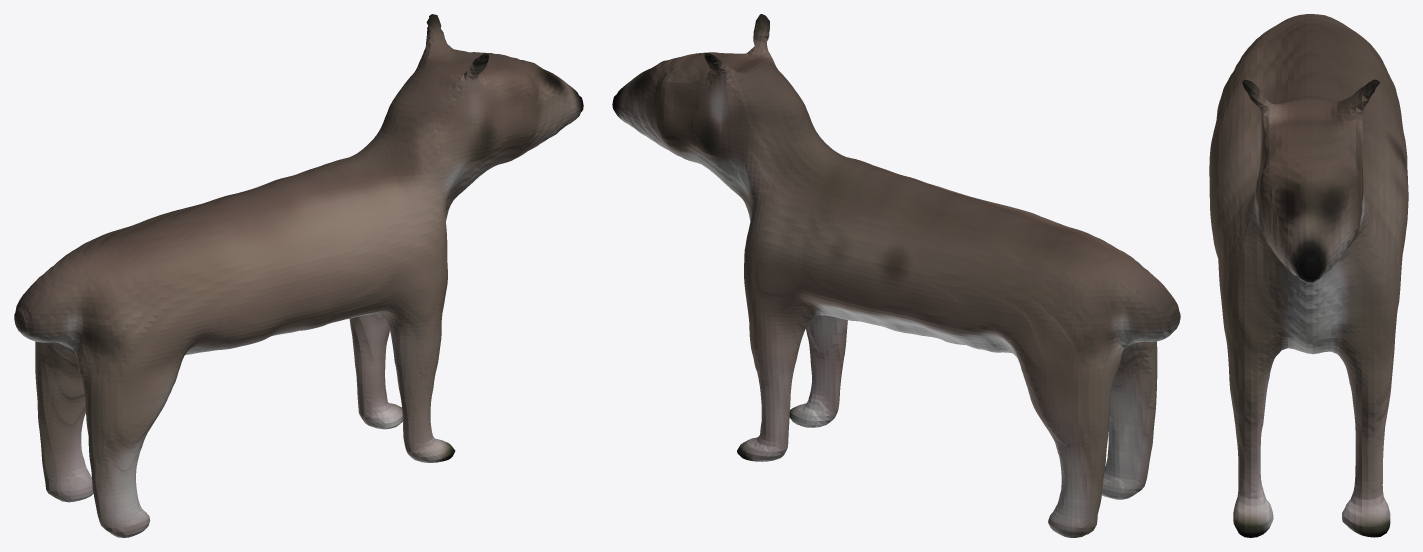
File: adog.glb
3 renders of one model, left to right at view 1: azimuth 30°, elevation 25°; view 2: azimuth 150°, elevation 25°; view 3: azimuth 270°, elevation 25°, orthographic. The views are drawn at different scales.
Parts seen in each view (by area): view 1: a dog.ply; view 2: a dog.ply; view 3: a dog.ply.
Boxes of the visible parts, left/top/right/bottom form: a dog.ply: left=14, top=14, right=583, bottom=537; a dog.ply: left=612, top=14, right=1180, bottom=537; a dog.ply: left=1209, top=14, right=1408, bottom=537.
Bounding box in the file's own units: 1.98 × 1.33 × 0.5002.
